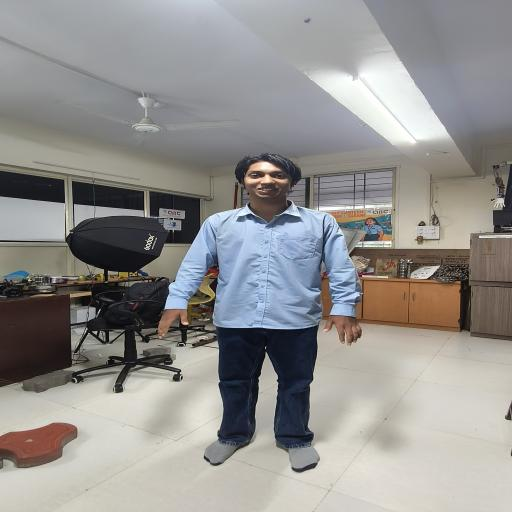survivor: (157, 152, 364, 474)
